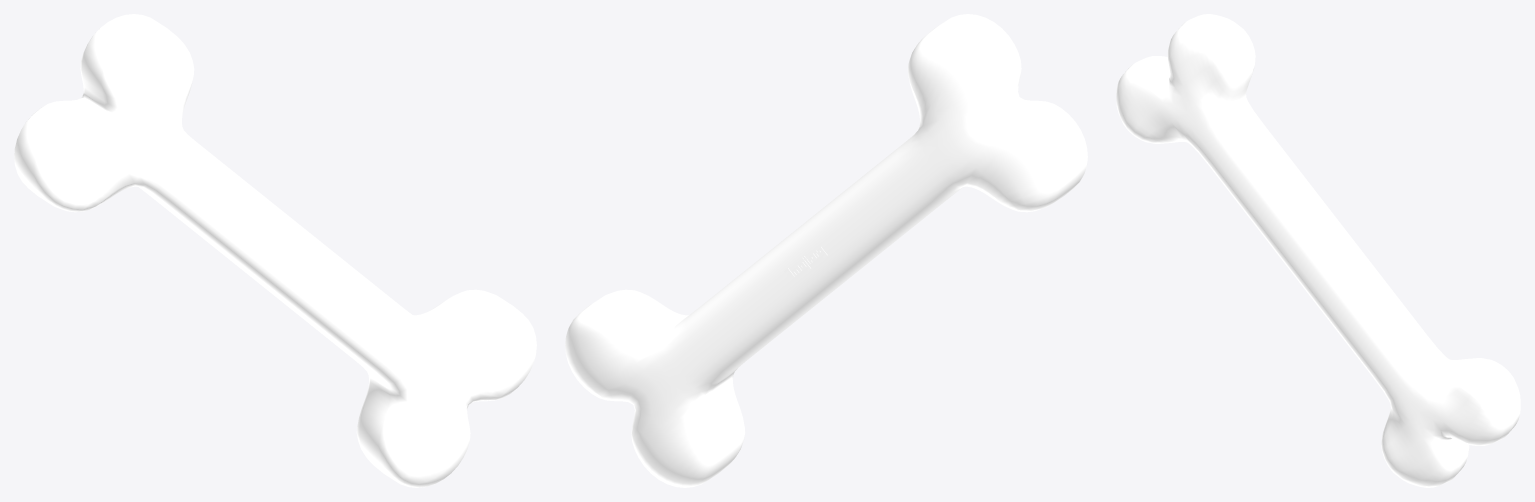
Rendered from bone.gltf.
3 views of the same model, side by side, from view 1: azimuth 30°, elevation 25°; view 2: azimuth 150°, elevation 25°; view 3: azimuth 330°, elevation 25° (orthographic). The views are drawn at different scales.
Visible parts, largest first — view 1: Circle.283; view 2: Circle.283; view 3: Circle.283.
Boxes of the visible parts, left/top/right/bottom form: Circle.283: left=14, top=14, right=536, bottom=487; Circle.283: left=565, top=14, right=1087, bottom=487; Circle.283: left=1116, top=14, right=1520, bottom=487.
Size of the model in its own units: 2.41 by 2.41 by 0.3399.
Materials: 1 (1 with a texture image).
